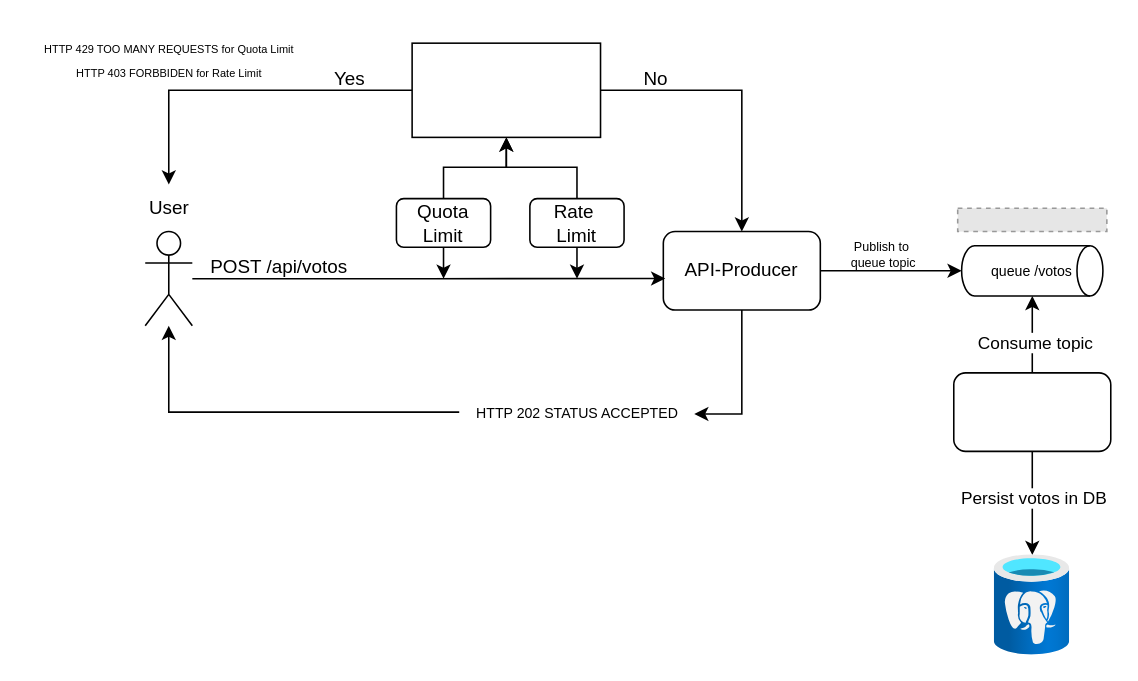
Some shapes in this 1138 by 681 pixel diagram are drawn without their labels. Grey dashed boxes stand in for pictures. The centre of each missing label's shape, as x and y in pixels:
Consumer Worker: point (1031, 411)
Exceeds quota or rate limit?: point (506, 89)
